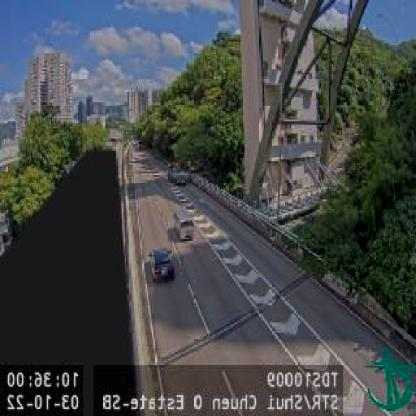Car: (150, 248, 174, 281), (176, 210, 197, 237)
